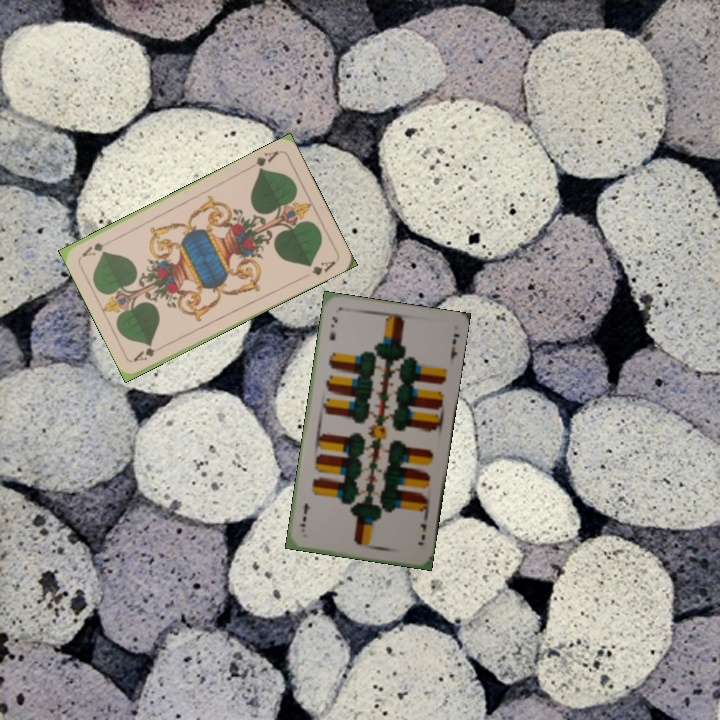E7: (325, 313, 340, 343), (414, 519, 429, 548)
GA: (244, 146, 281, 174), (130, 340, 168, 364)
